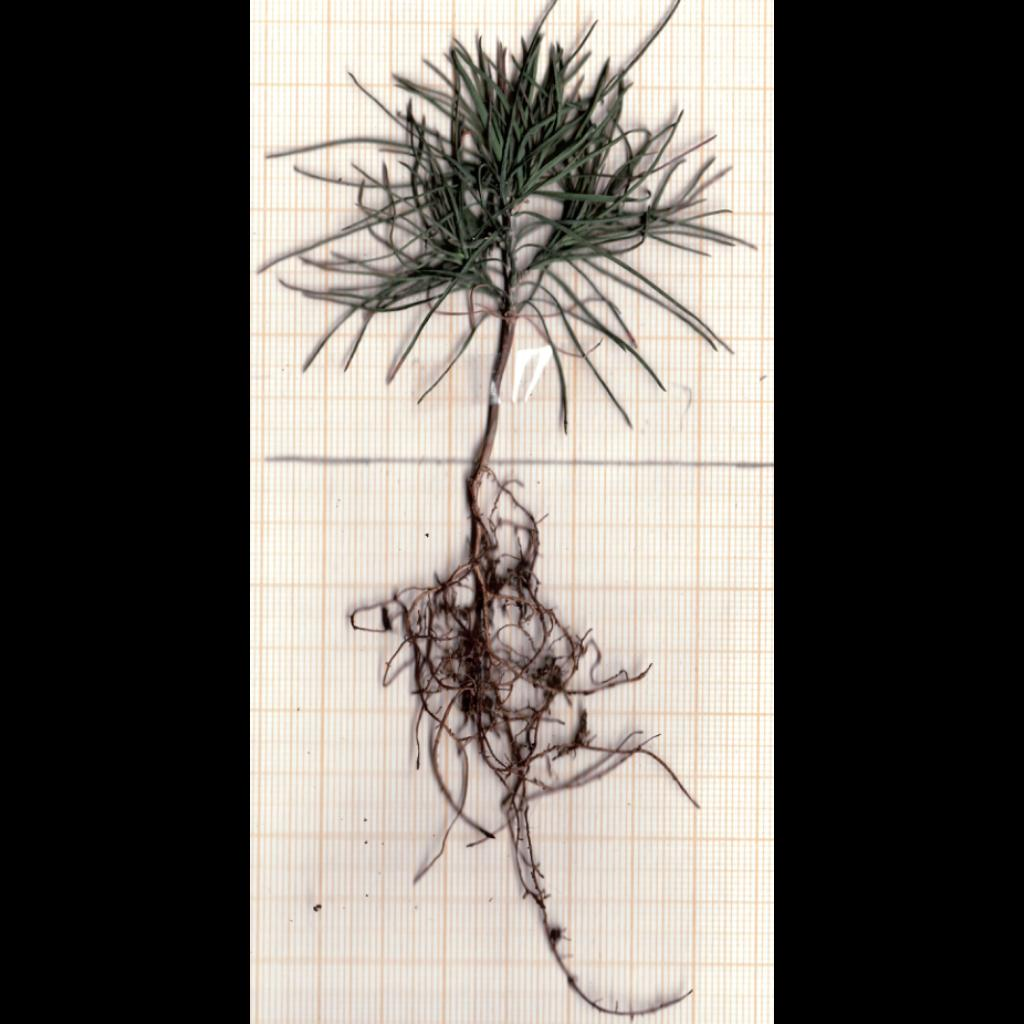flowerCedr: (262, 0, 740, 431)
rootCedr: (351, 469, 697, 1017)
stemCedr: (467, 312, 517, 510)
